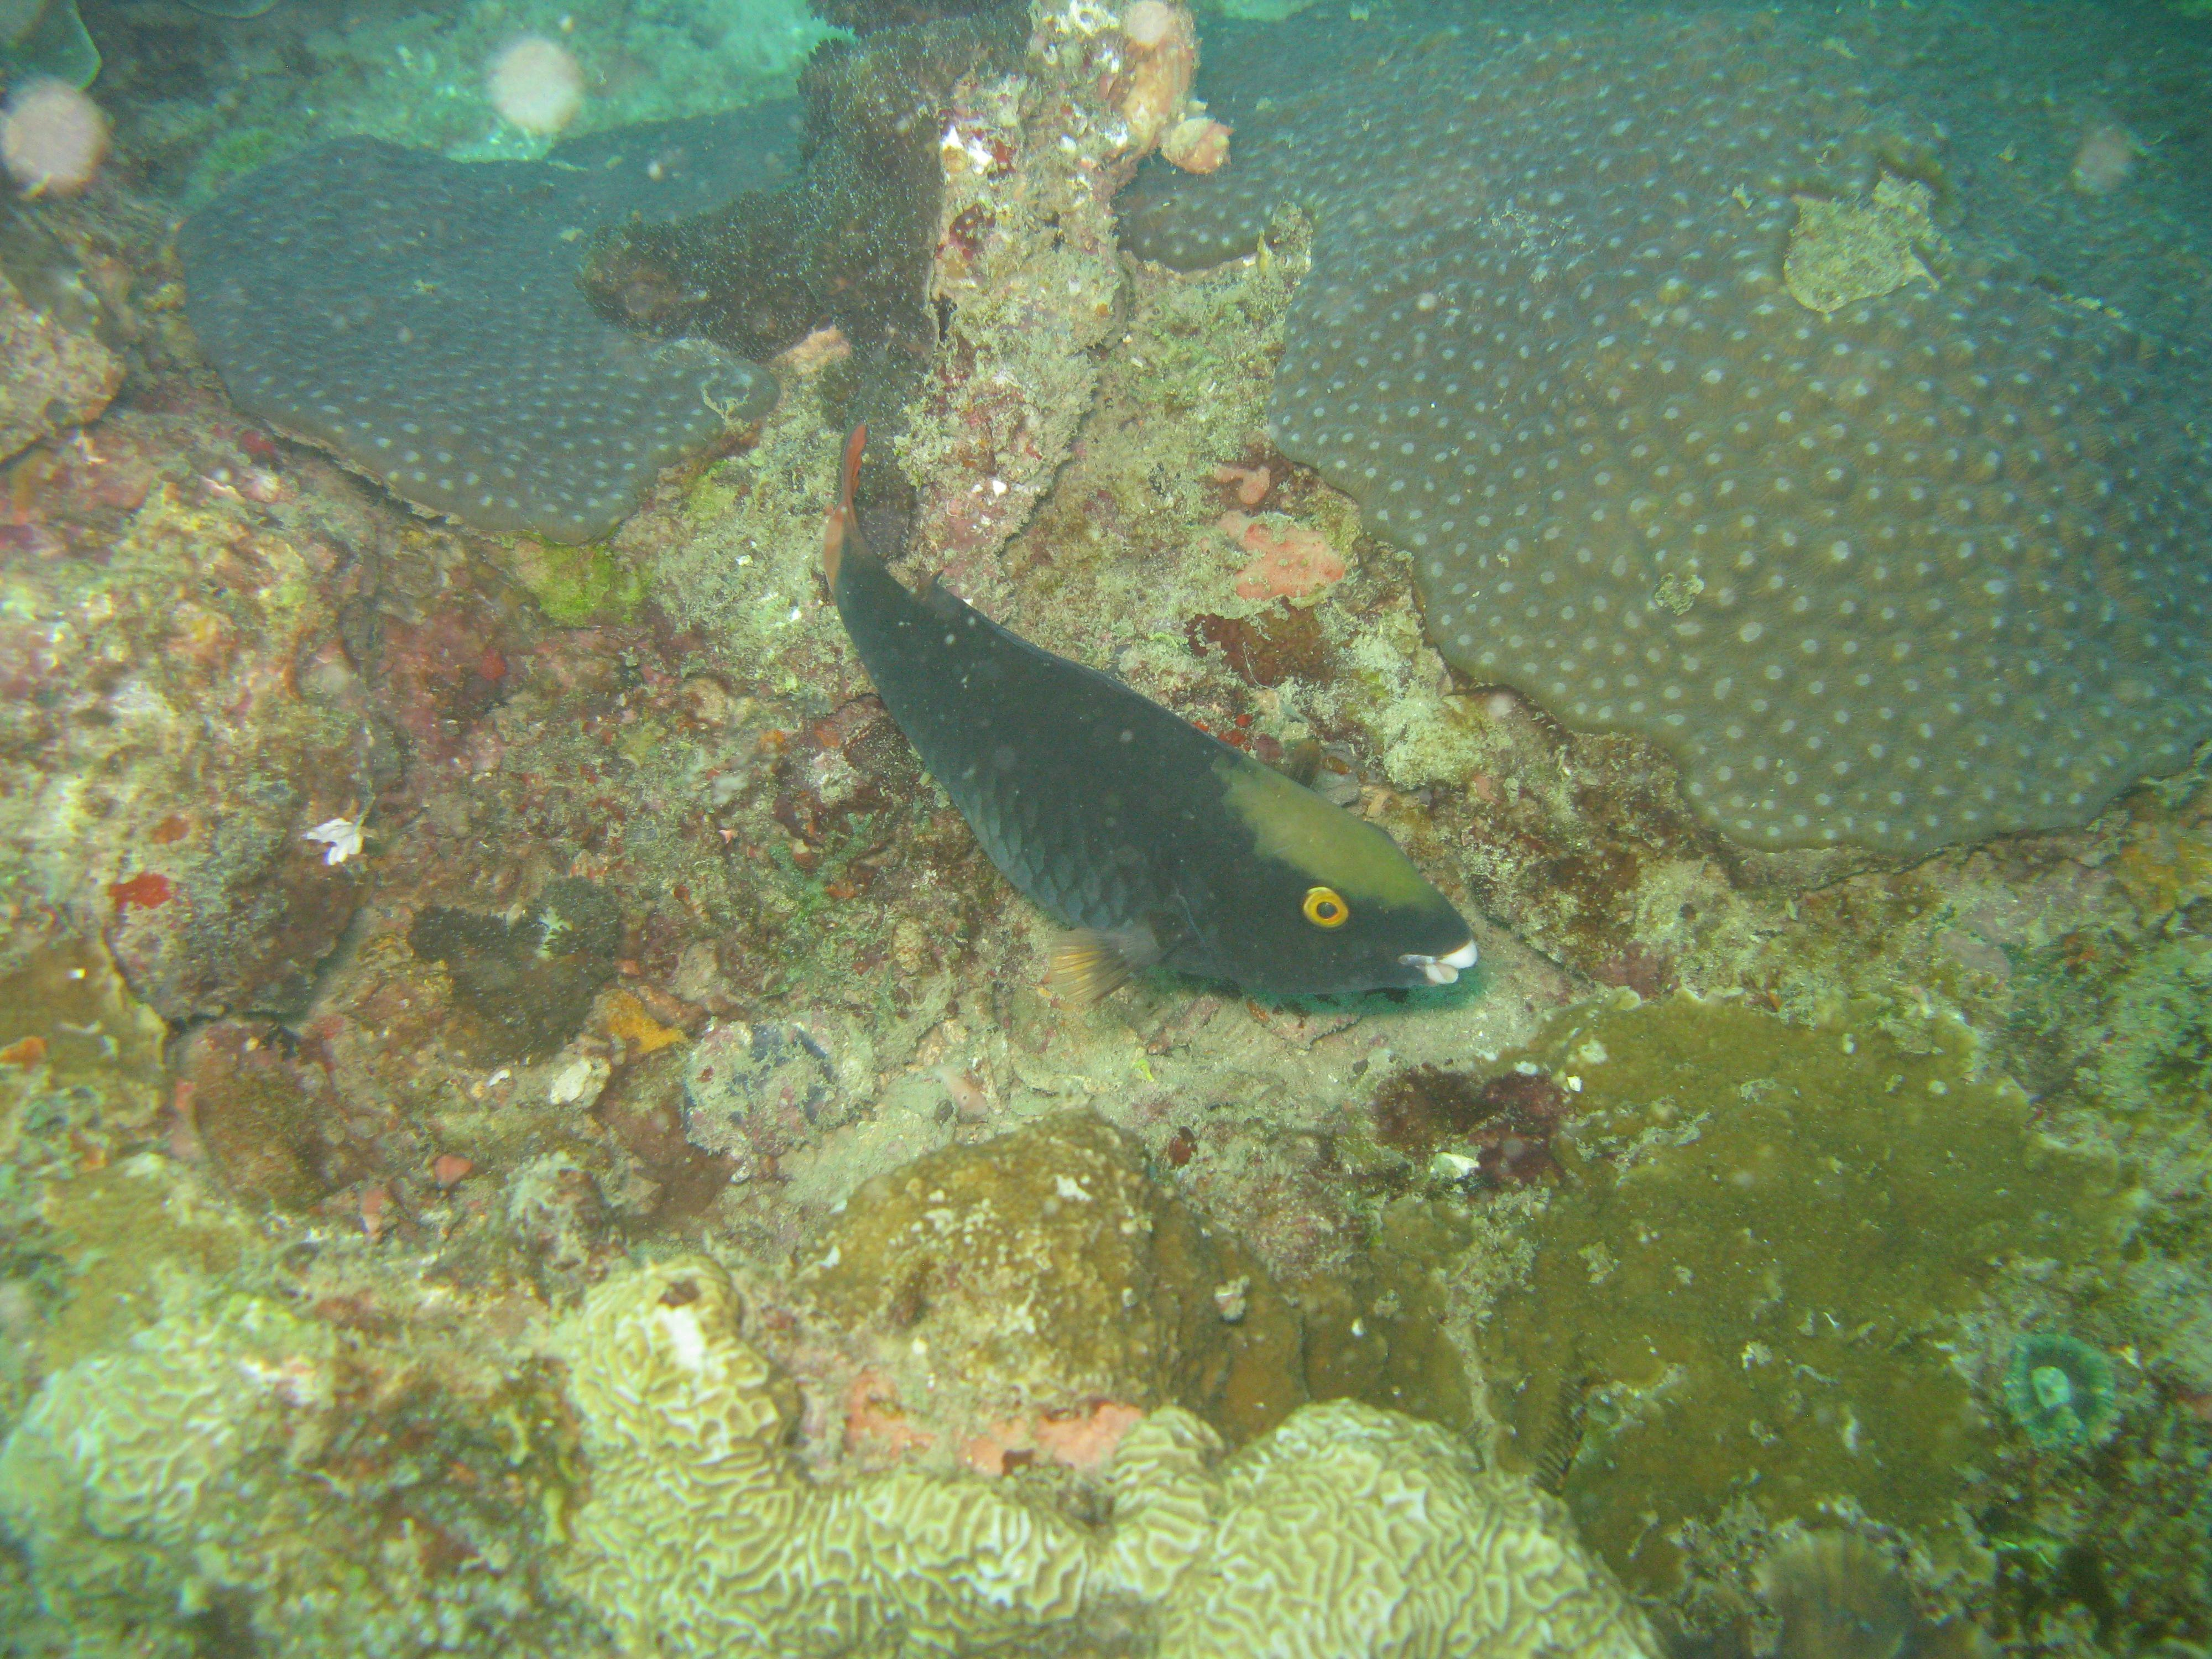Fish: (777, 415, 1557, 1094)
